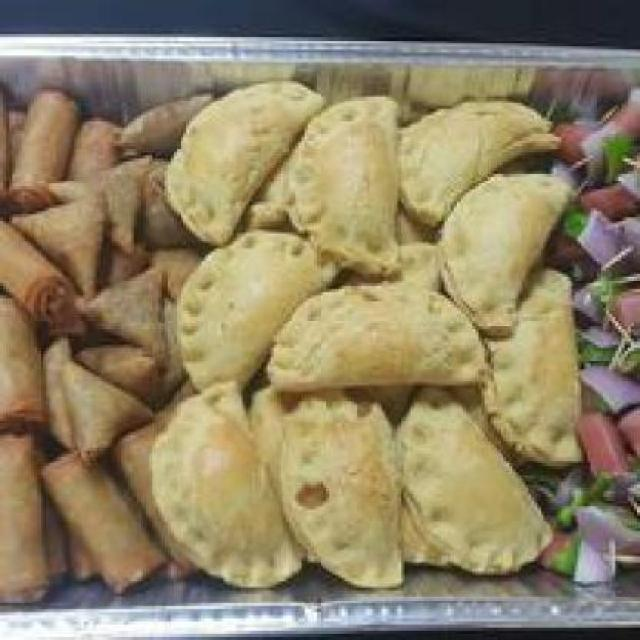gyoza: (186, 78, 554, 574)
samosa: (81, 96, 168, 444)
